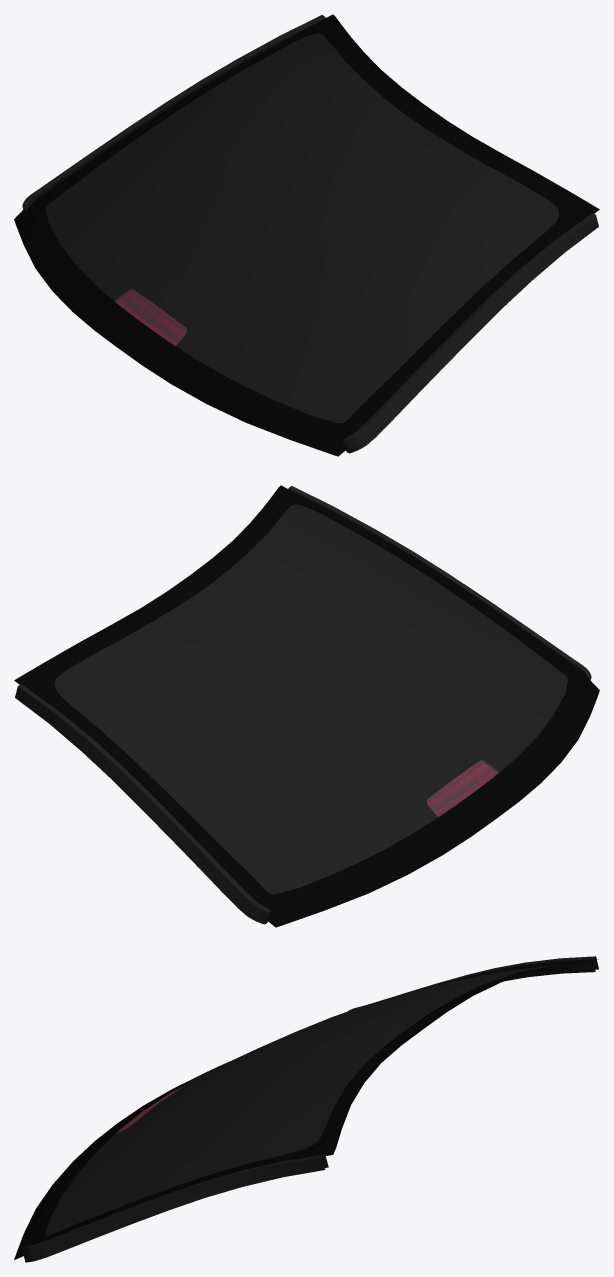
3 views of the same model, one above another, from view 1: azimuth 30°, elevation 25°; view 2: azimuth 150°, elevation 25°; view 3: azimuth 330°, elevation 25° (orthographic).
Parts seen in each view (by area): view 1: Y211_365C_C_Y211_365C_C_5_DTaSI, Y211_365C_C_Y211_365C_C_1_DTaSI, Y211_365C_C_2_D_Y211_365C_C, Y211_365C_C_Y211_365C_C_4_N, Y211_365C_C_Y211_365C_C_3_DTaSI; view 2: Y211_365C_C_Y211_365C_C_5_DTaSI, Y211_365C_C_Y211_365C_C_1_DTaSI, Y211_365C_C_2_D_Y211_365C_C, Y211_365C_C_Y211_365C_C_4_N, Y211_365C_C_Y211_365C_C_3_DTaSI; view 3: Y211_365C_C_Y211_365C_C_5_DTaSI, Y211_365C_C_Y211_365C_C_1_DTaSI, Y211_365C_C_2_D_Y211_365C_C.
Boxes of the visible parts, x1=… form: Y211_365C_C_Y211_365C_C_5_DTaSI: x1=46, y1=33, x2=558, y2=423; Y211_365C_C_Y211_365C_C_1_DTaSI: x1=14, y1=14, x2=599, y2=456; Y211_365C_C_2_D_Y211_365C_C: x1=22, y1=15, x2=598, y2=453; Y211_365C_C_Y211_365C_C_4_N: x1=115, y1=289, x2=186, y2=345; Y211_365C_C_Y211_365C_C_3_DTaSI: x1=115, y1=289, x2=186, y2=345; Y211_365C_C_Y211_365C_C_5_DTaSI: x1=55, y1=504, x2=567, y2=894; Y211_365C_C_Y211_365C_C_1_DTaSI: x1=14, y1=485, x2=599, y2=927; Y211_365C_C_2_D_Y211_365C_C: x1=15, y1=486, x2=591, y2=924; Y211_365C_C_Y211_365C_C_4_N: x1=427, y1=760, x2=498, y2=816; Y211_365C_C_Y211_365C_C_3_DTaSI: x1=427, y1=760, x2=498, y2=816; Y211_365C_C_Y211_365C_C_5_DTaSI: x1=46, y1=964, x2=558, y2=1235; Y211_365C_C_Y211_365C_C_1_DTaSI: x1=14, y1=959, x2=598, y2=1259; Y211_365C_C_2_D_Y211_365C_C: x1=22, y1=956, x2=598, y2=1262.
Bounding box in the file's own units: 98.74 × 46.92 × 163.
